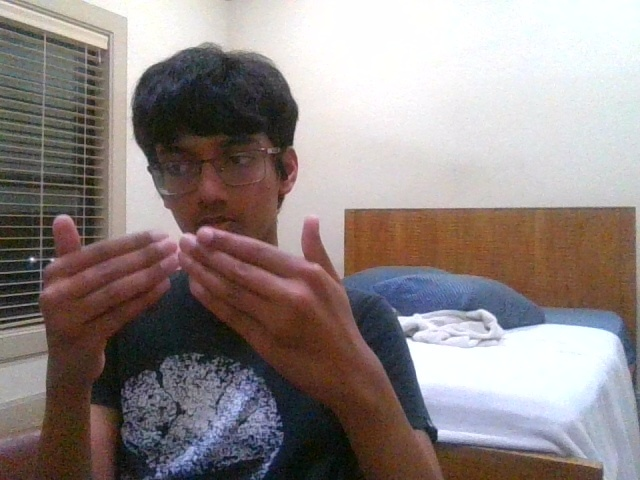thanks: (28, 214, 361, 396)
